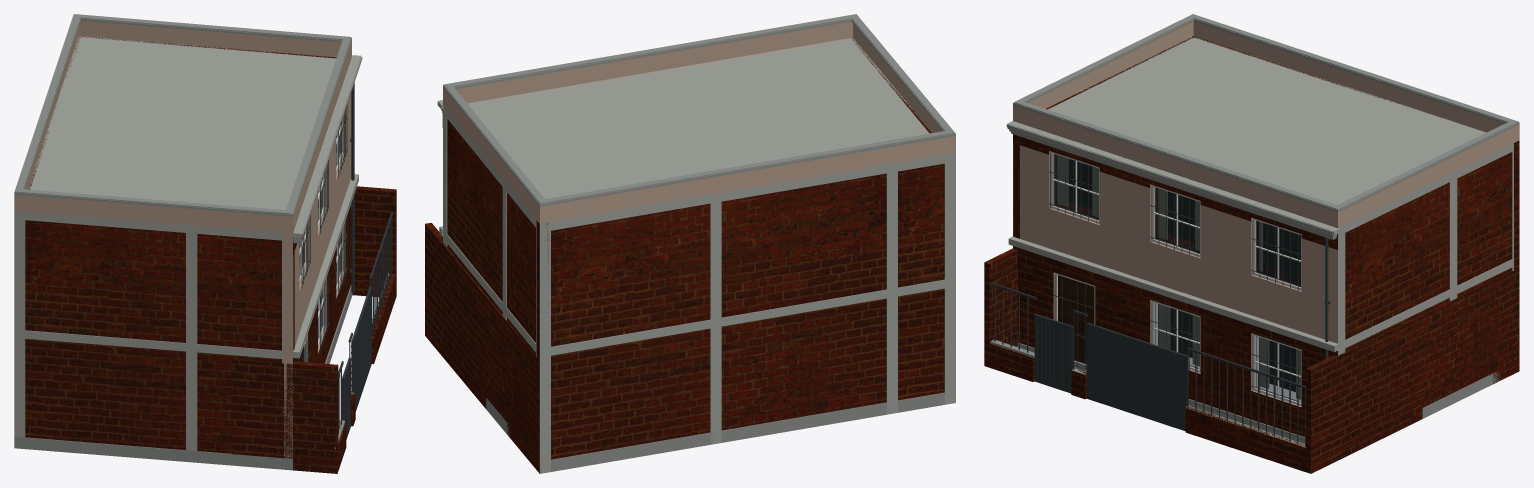
Rendered from building.glb.
3 renders of one model, left to right at view 1: azimuth 30°, elevation 25°; view 2: azimuth 150°, elevation 25°; view 3: azimuth 270°, elevation 25°, orthographic. The views are drawn at different scales.
Visible parts, largest first — view 1: main:0/edge0/z0/main:0/edge0/z0/wall_0_0, roof/main:0/roof_slab#0001, site/fence/0/wall#0001, roof/main:0/parapet#0001, roof/main:0/parapet_cap#0002, main:0/edge1/z0/main:0/edge1/z0/wall_0_0/core0, site/fence/2/wall#0001, main:0/edge0/z0/plinth#0001, roof/main:0/parapet_cap#0001, main:0/edge0/z0/main:0/edge0/z0/beam_0_0, main:0/edge0/z0/main:0/edge0/z0/beam_1_0, main:0/edge1/z0/main:0/edge1/z0/coating_0_0_0 (+12 smaller); view 2: main:0/edge3/z0/main:0/edge3/z0/wall_0_0/core0, roof/main:0/roof_slab#0001, roof/main:0/parapet#0001, site/fence/2/wall#0001, main:0/edge2/z0/main:0/edge2/z0/wall_0_0/core0, roof/main:0/parapet_cap#0002, main:0/edge3/z0/plinth#0001, main:0/edge3/z0/main:0/edge3/z0/beam_0_0/core0, main:0/edge3/z0/main:0/edge3/z0/beam_1_0/core0, roof/main:0/parapet_cap#0001, main:0/edge3/z0/main:0/edge3/z0/column_2_0, main:0/edge3/z0/main:0/edge3/z0/column_3_0 (+11 smaller); view 3: roof/main:0/roof_slab#0001, main:0/edge1/z0/main:0/edge1/z0/wall_0_0/core0, site/fence/2/wall#0001, main:0/edge2/z0/main:0/edge2/z0/wall_0_0/core0, roof/main:0/parapet#0001, main:0/edge1/z0/main:0/edge1/z0/coating_0_0_0, site/fence/1/garage_door#0001, roof/main:0/parapet_cap#0002, site/fence/1/boundary_base#0003, main:0/edge1/z0/floor_slab#0001, site/fence/0/wall#0001, roof/main:0/parapet_cap#0001 (+30 smaller).
Part boxes in pixels (x1,y1,x2,y2): main:0/edge0/z0/main:0/edge0/z0/wall_0_0: (25,220,294,453); roof/main:0/roof_slab#0001: (14,36,336,236); site/fence/0/wall#0001: (231,359,338,473); roof/main:0/parapet#0001: (14,21,351,233); roof/main:0/parapet_cap#0002: (15,14,351,214); main:0/edge1/z0/main:0/edge1/z0/wall_0_0/core0: (294,93,351,362); site/fence/2/wall#0001: (352,186,396,297); main:0/edge0/z0/plinth#0001: (14,437,292,470); roof/main:0/parapet_cap#0001: (14,15,351,216); main:0/edge0/z0/main:0/edge0/z0/beam_0_0: (14,329,283,359); main:0/edge0/z0/main:0/edge0/z0/beam_1_0: (14,211,283,240); main:0/edge1/z0/main:0/edge1/z0/coating_0_0_0: (293,207,351,363); main:0/edge3/z0/main:0/edge3/z0/wall_0_0/core0: (551,163,944,459); roof/main:0/roof_slab#0001: (443,38,955,225); roof/main:0/parapet#0001: (443,21,955,223); site/fence/2/wall#0001: (425,223,539,473); main:0/edge2/z0/main:0/edge2/z0/wall_0_0/core0: (447,119,535,355); roof/main:0/parapet_cap#0002: (443,14,954,204); main:0/edge3/z0/plinth#0001: (551,392,944,471); main:0/edge3/z0/main:0/edge3/z0/beam_0_0/core0: (540,278,955,357); main:0/edge3/z0/main:0/edge3/z0/beam_1_0/core0: (540,153,955,232); roof/main:0/parapet_cap#0001: (443,19,955,206); main:0/edge3/z0/main:0/edge3/z0/column_2_0: (710,201,721,319); main:0/edge3/z0/main:0/edge3/z0/column_3_0: (886,171,897,289); roof/main:0/roof_slab#0001: (1048,37,1513,232); main:0/edge1/z0/main:0/edge1/z0/wall_0_0/core0: (1020,145,1337,407); site/fence/2/wall#0001: (1306,268,1519,473); main:0/edge2/z0/main:0/edge2/z0/wall_0_0/core0: (1345,152,1511,351); roof/main:0/parapet#0001: (1013,21,1519,228); main:0/edge1/z0/main:0/edge1/z0/coating_0_0_0: (1013,246,1337,436); site/fence/1/garage_door#0001: (1086,323,1187,431); roof/main:0/parapet_cap#0002: (1014,14,1518,209); site/fence/1/boundary_base#0003: (1185,406,1310,473); main:0/edge1/z0/floor_slab#0001: (1008,236,1339,351); site/fence/0/wall#0001: (984,248,1017,367); roof/main:0/parapet_cap#0001: (1013,19,1519,212).
Size of the model in its own units: 11.34 by 6.39 by 12.19.
Materials: 10 (2 with a texture image).
